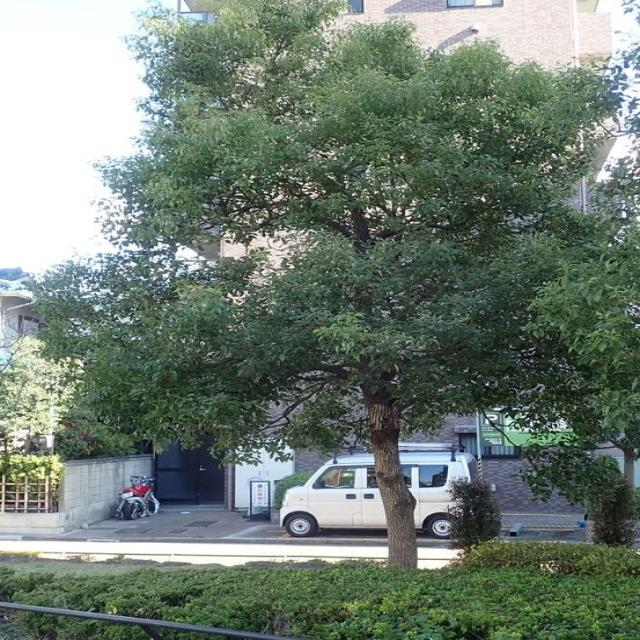camphor: (12, 0, 640, 565)
